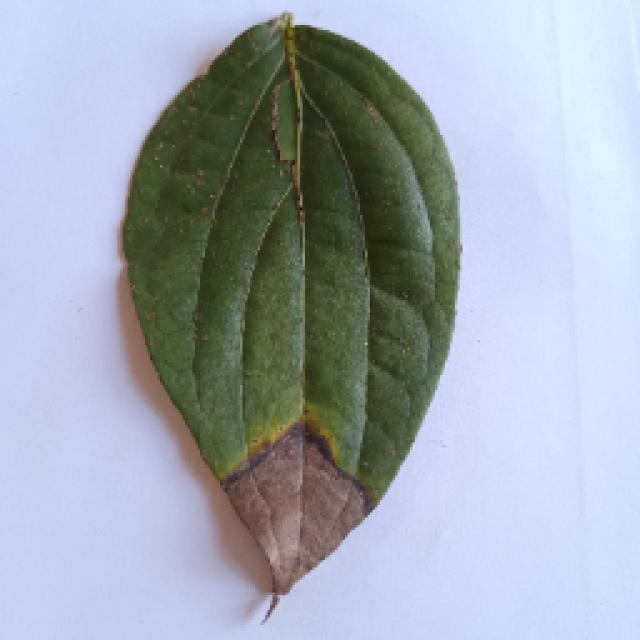footrot: (118, 17, 460, 615)
